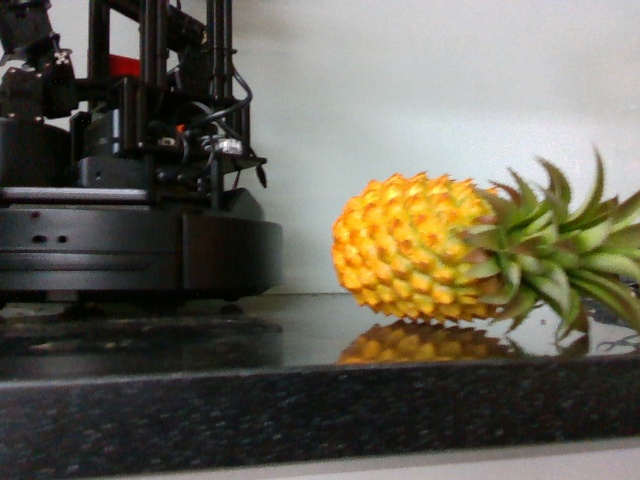pineapple: (333, 165, 640, 326)
